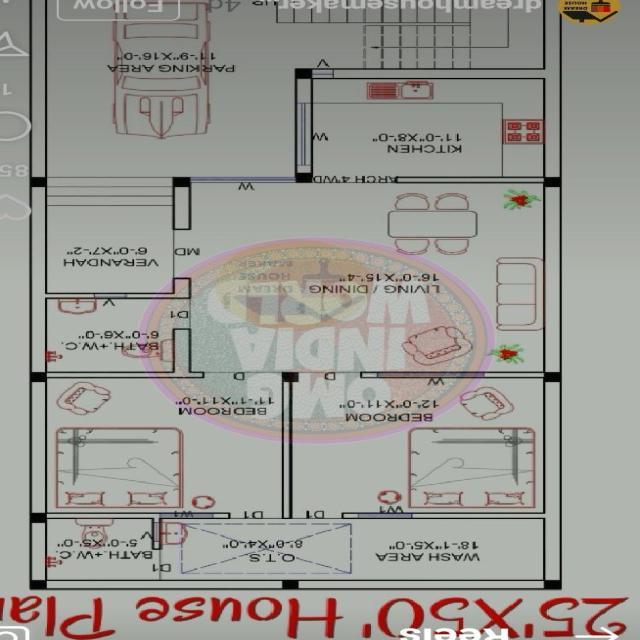column: (19, 508, 56, 528), (19, 366, 55, 386), (274, 574, 306, 596), (276, 368, 308, 387), (22, 576, 54, 594), (288, 66, 320, 84), (538, 172, 570, 190), (536, 368, 566, 386), (288, 170, 316, 188), (164, 174, 196, 189), (541, 576, 569, 593), (24, 174, 53, 190)
